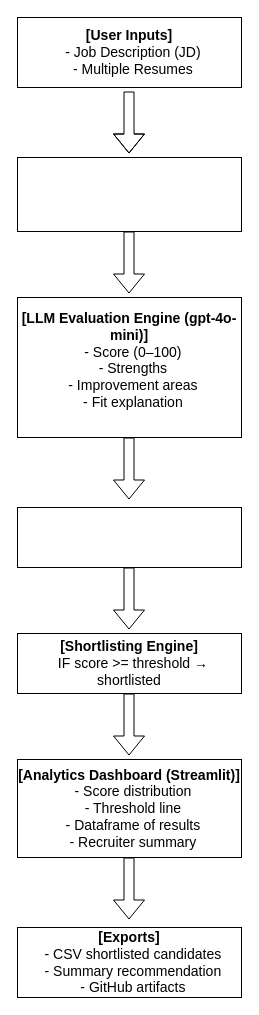
This 259x1015 diagram has some shape labels left out. Each missing label, with the centre of its shape:
[Preprocessing Layer] - Resume chunking - JD keyword extraction: pixel 129 194
[Score Extraction Logic] - Extract digits - Format output: "85/100": pixel 129 537
